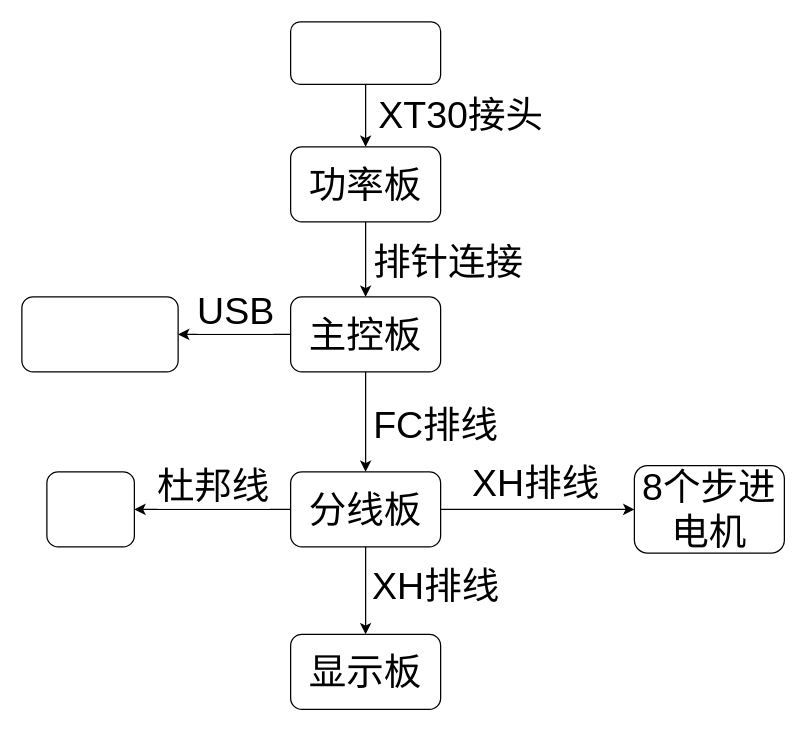
This 806x731 diagram has some shape labels left out. Each missing label, with the centre of its shape:
12V电池: point (365, 52)
舵机: point (90, 509)
视觉设备: point (99, 334)
